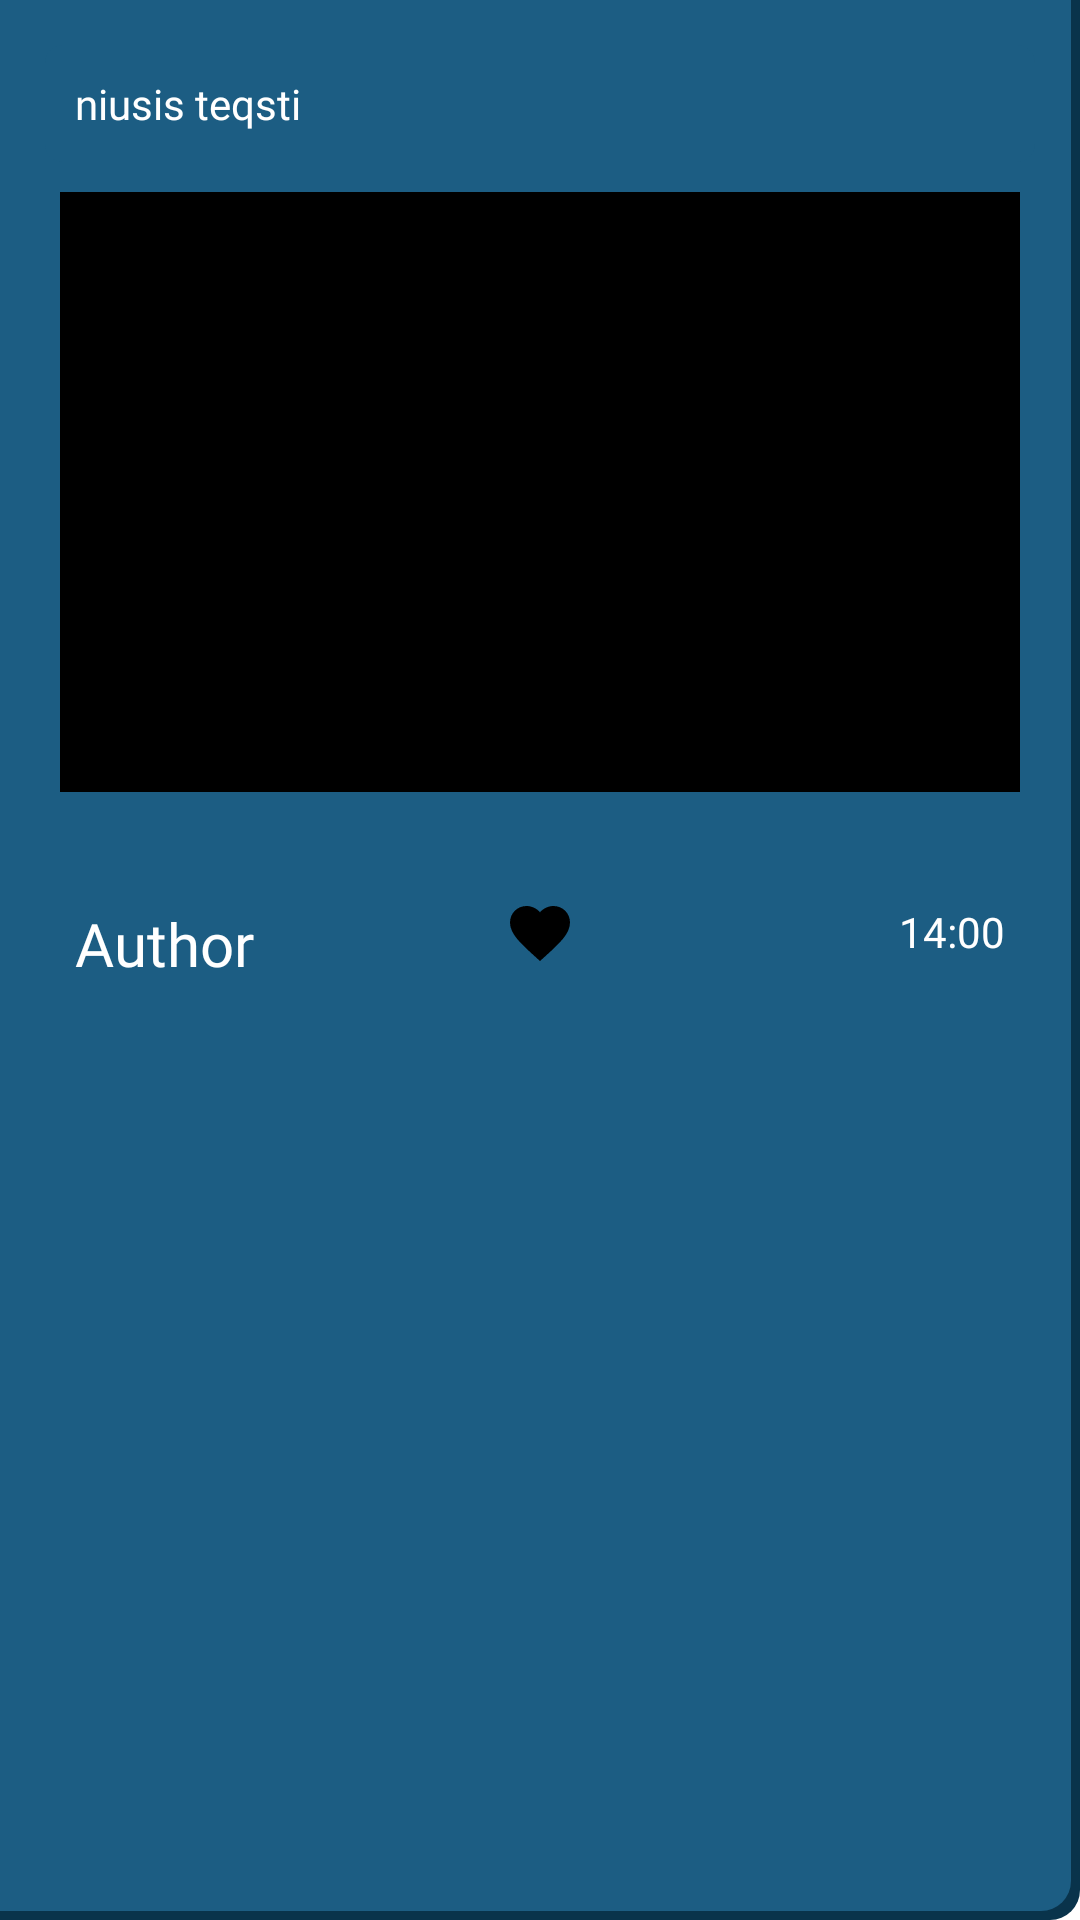

Icon click points for this 1080px x 1920px phone screenshot, format point (x, y):
favorite: point (540, 933)
